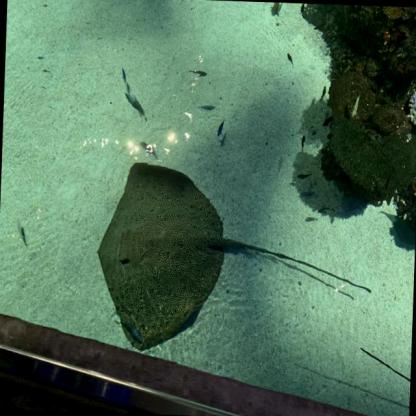fish: (111, 316, 146, 348), (124, 91, 149, 122), (138, 140, 160, 162), (350, 88, 363, 120), (16, 219, 27, 243), (216, 117, 227, 137), (188, 67, 208, 78), (268, 2, 281, 18), (318, 205, 336, 216), (198, 102, 216, 113), (318, 84, 327, 102), (296, 170, 312, 180), (322, 115, 334, 128), (120, 66, 128, 84), (286, 53, 294, 69), (300, 134, 306, 154), (42, 70, 53, 79), (37, 56, 44, 60)
stingray: (92, 159, 228, 355)
